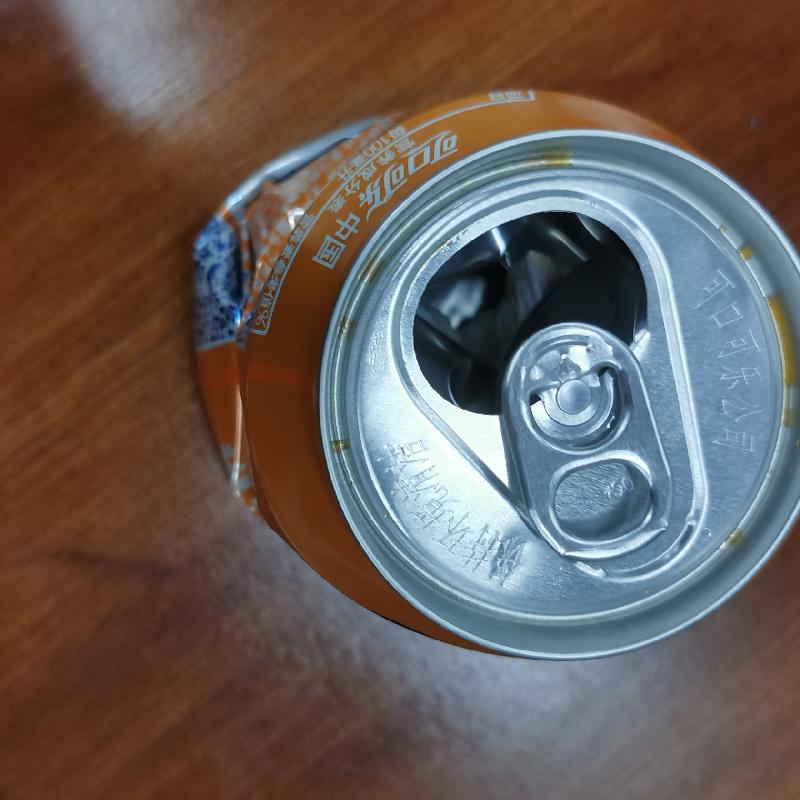cans: (191, 82, 800, 662)
